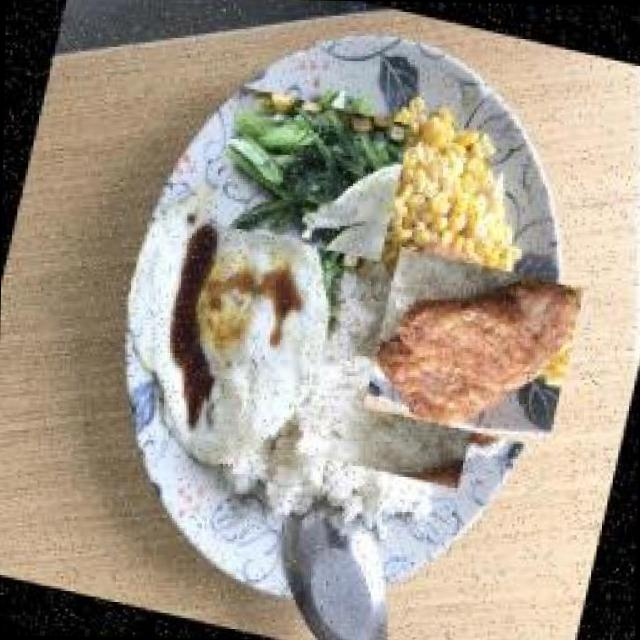fried_eggs: (97, 169, 355, 486)
rice: (266, 314, 462, 510)
triangle_hash_brown: (368, 240, 582, 454)
water_spinach: (213, 78, 404, 270)
